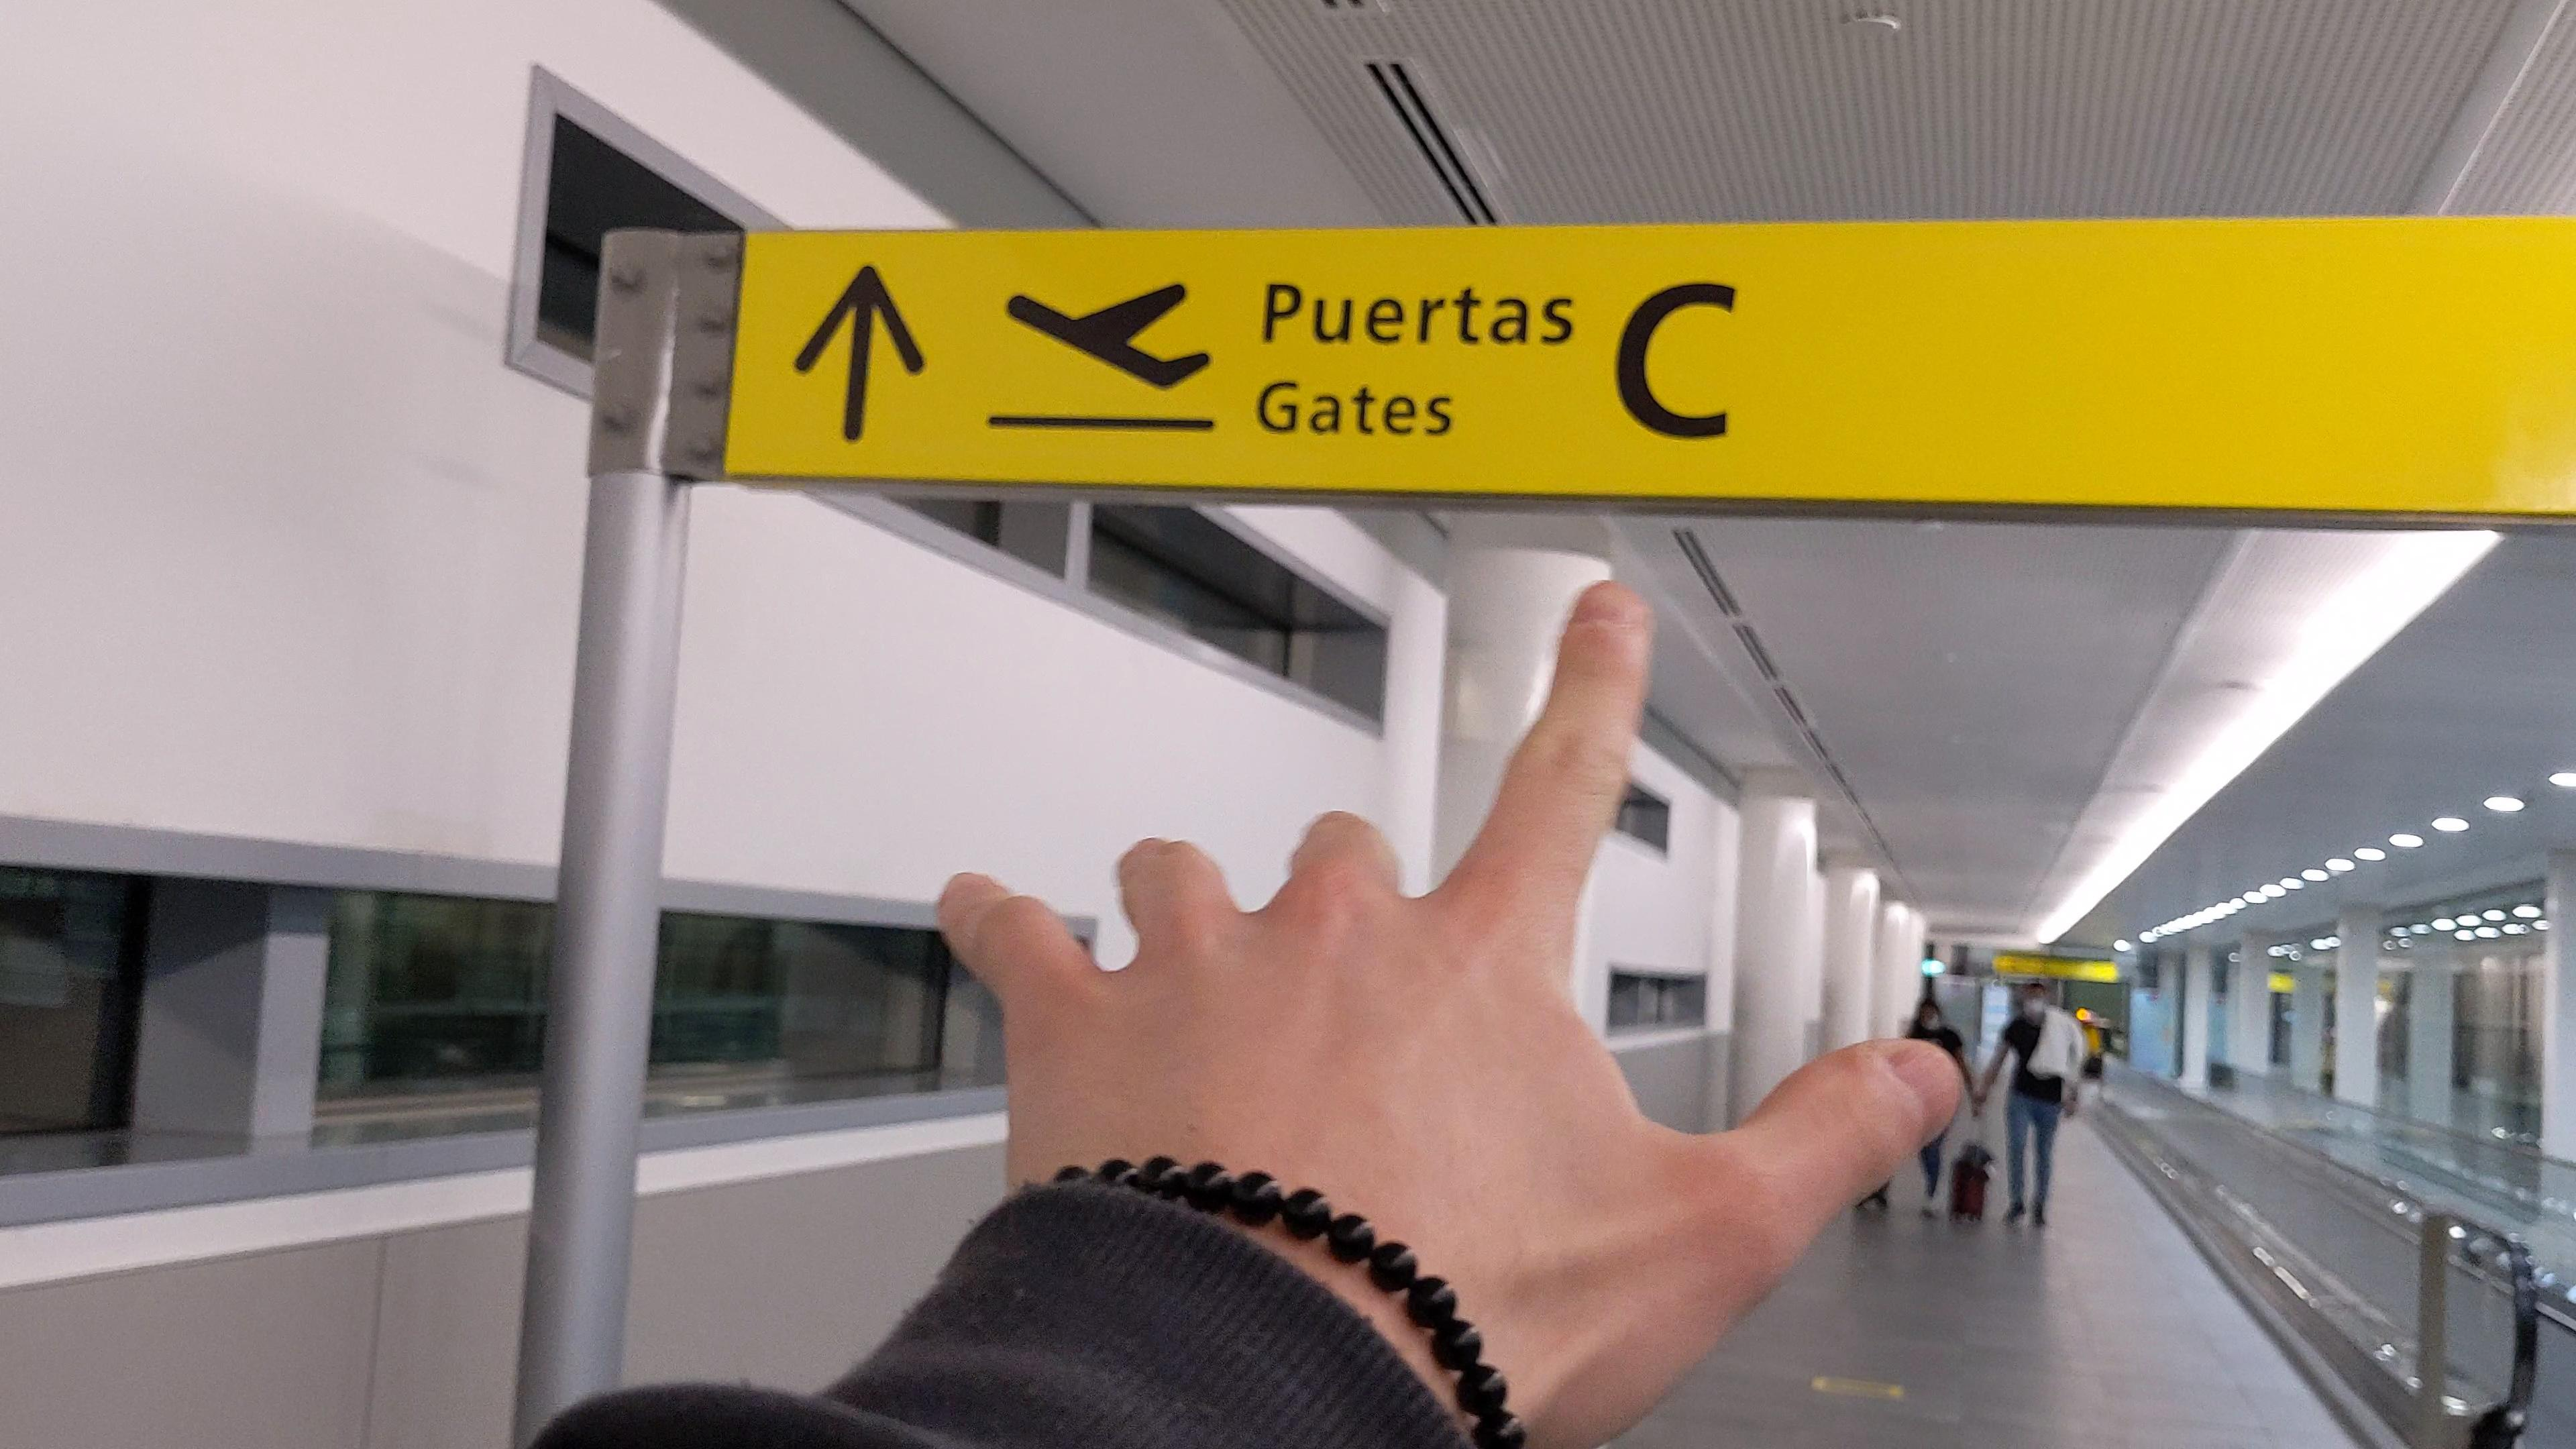airplane symbol: (987, 272, 1221, 403)
thin up arrow: (791, 255, 936, 449)
